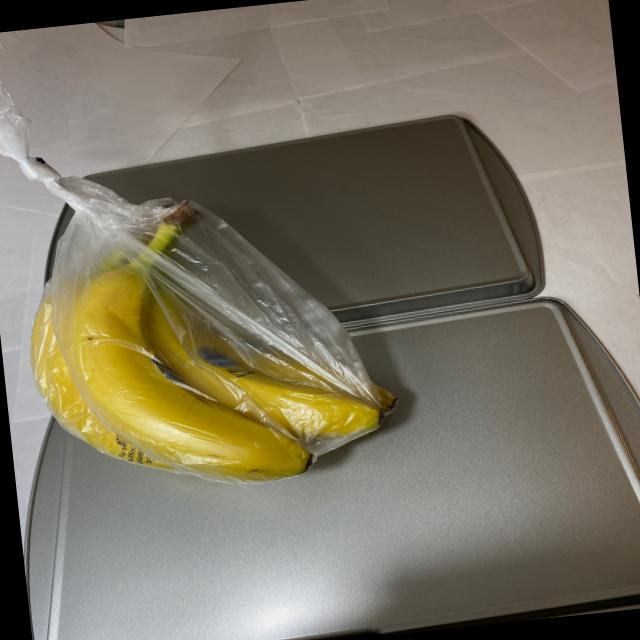banana: (17, 166, 416, 507)
